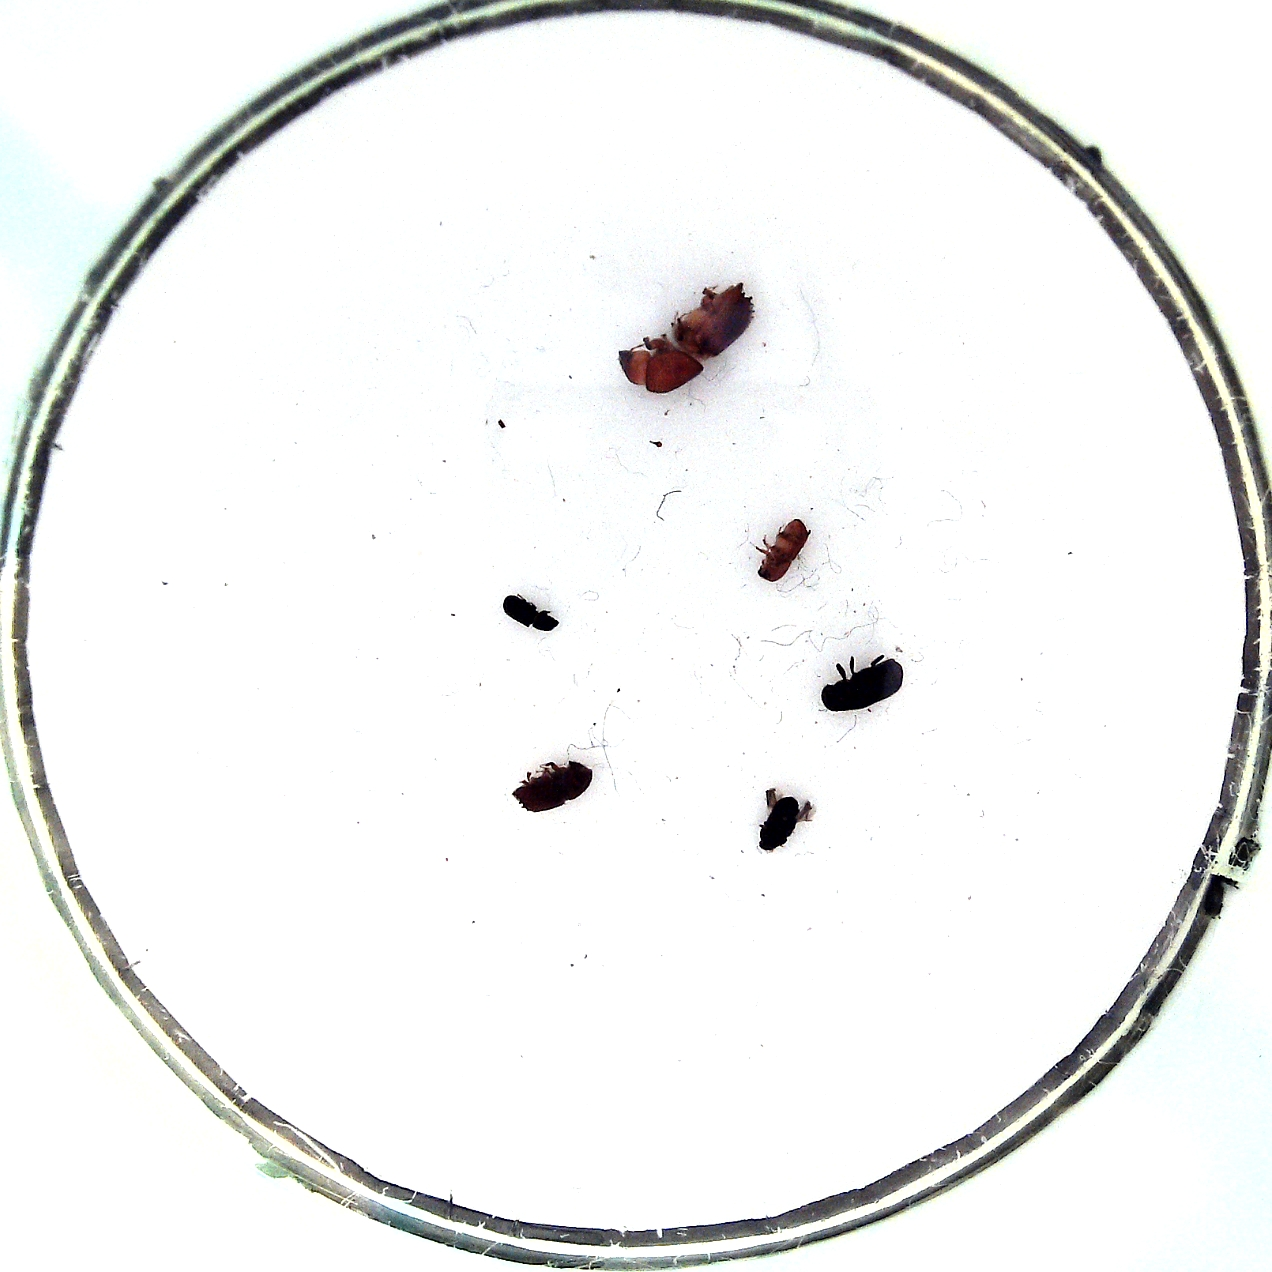Boerner: (617, 282, 755, 394)
acuminatus: (758, 797, 803, 851), (502, 593, 560, 631)
armandi: (821, 659, 904, 711)
coleoptera: (756, 518, 811, 582)
linnaeus: (511, 759, 594, 814)
